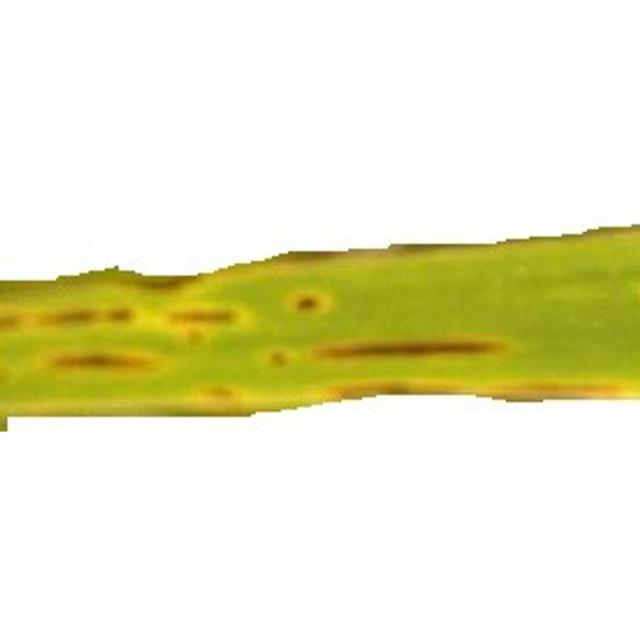healthy: (0, 152, 640, 463)
